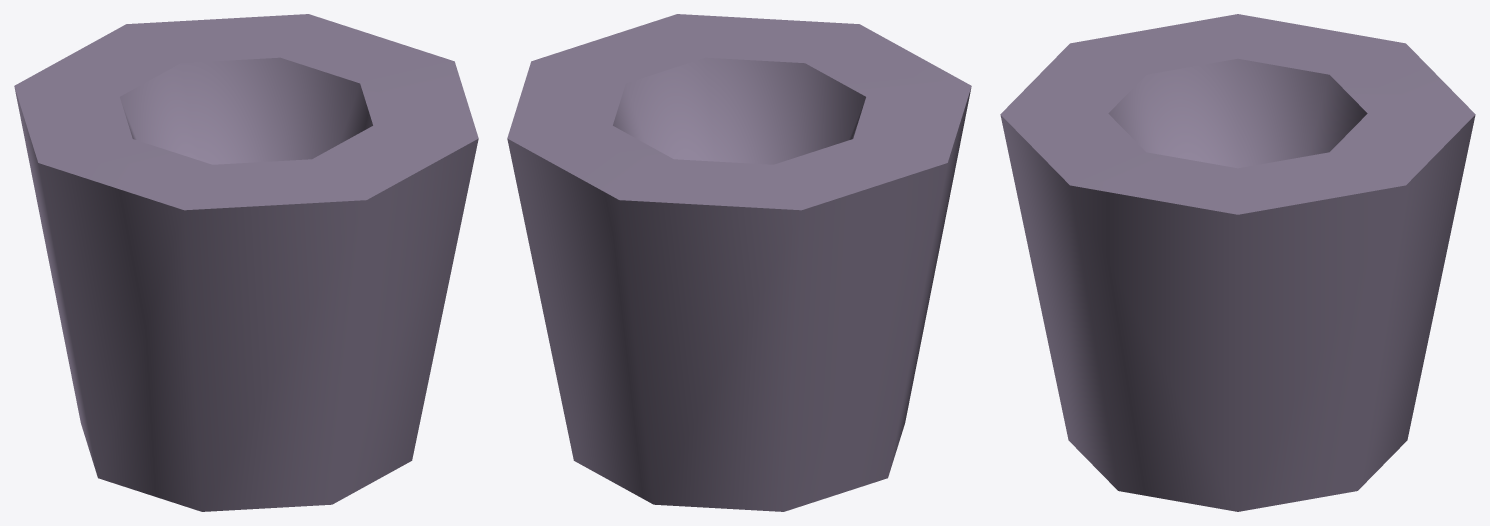
Rendered from urn01_s03.FBX.
3 renders of one model, left to right at view 1: azimuth 30°, elevation 25°; view 2: azimuth 150°, elevation 25°; view 3: azimuth 270°, elevation 25°, orthographic.
Parts seen in each view (by area): view 1: urn01_s03; view 2: urn01_s03; view 3: urn01_s03.
Part boxes in pixels (<box>): urn01_s03: <box>14,14,478,511</box>; urn01_s03: <box>507,14,971,511</box>; urn01_s03: <box>1000,14,1475,511</box>.
Size of the model in its own units: 87.7 by 87.7 by 66.55.
1 material, 1 textured.
